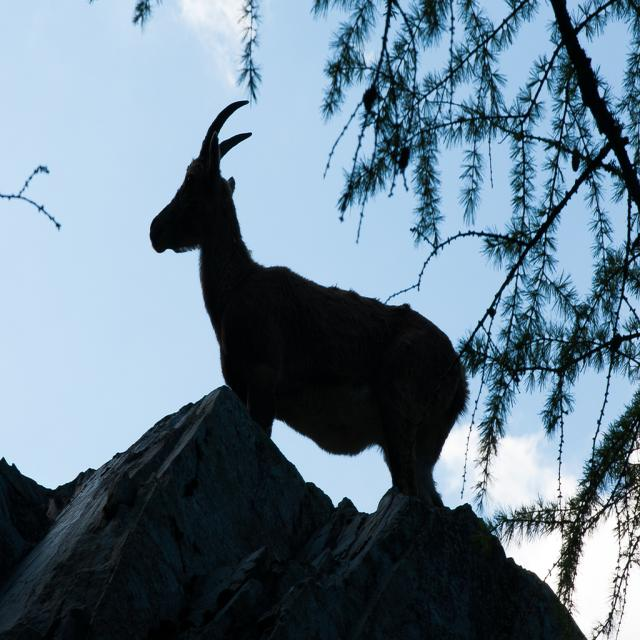Goat: (149, 100, 471, 506)
